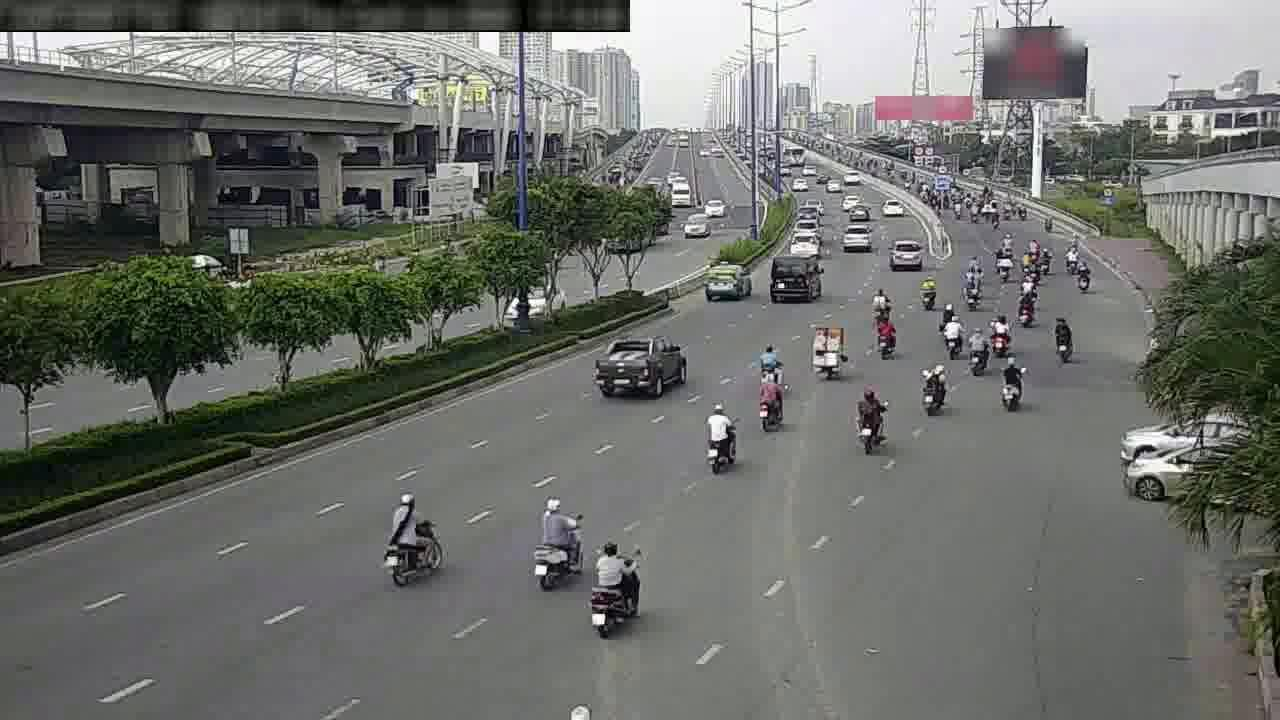14: (768, 256, 822, 302)
container: (1128, 445, 1260, 506), (1123, 402, 1255, 463), (595, 330, 689, 399), (701, 261, 751, 303), (885, 236, 926, 271), (785, 227, 823, 259), (837, 219, 873, 252)
motorbike: (379, 487, 450, 585), (584, 536, 645, 632), (529, 496, 585, 588), (697, 404, 745, 478), (844, 387, 891, 456), (750, 370, 790, 434), (992, 353, 1031, 412), (807, 324, 846, 382), (912, 358, 951, 414), (869, 311, 902, 359), (1046, 313, 1079, 360), (750, 340, 782, 386), (962, 329, 992, 376), (987, 312, 1015, 355), (912, 272, 941, 311), (941, 309, 965, 353), (1011, 288, 1038, 327), (864, 283, 891, 322), (959, 273, 985, 310), (1071, 258, 1096, 296), (934, 296, 954, 332), (992, 250, 1013, 283), (1034, 247, 1053, 280)
